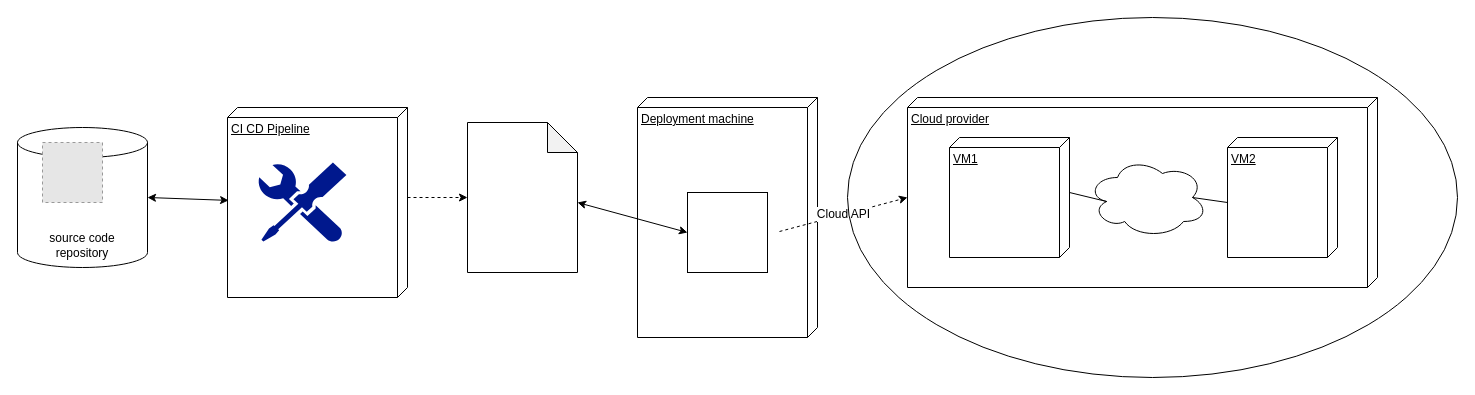
This 1475x395 diagram has some shape labels left out. Grey dashed boxes stand in for pictures. Here are the shapes that lost their labels. From the top down, the centre of each, then its label:
point 522,197: Deployable artefact
point 1147,197: internal network
point 727,232: Orchestrator
